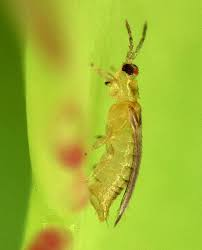Thrips: (84, 7, 155, 237)
